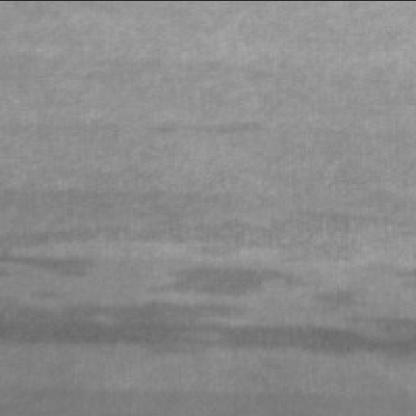inclusion: (0, 266, 410, 360), (144, 113, 268, 144)
